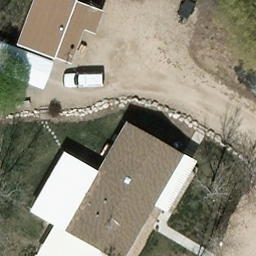car: (62, 73, 104, 89)
